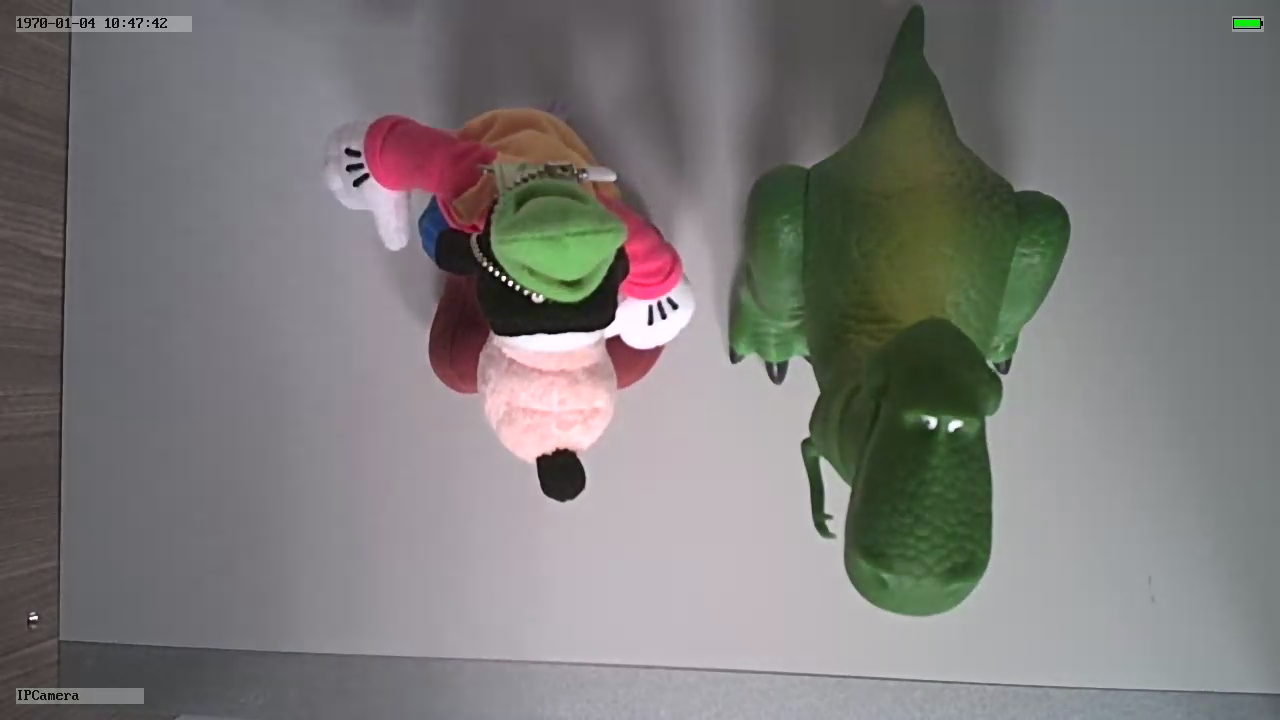goofy: (316, 97, 701, 498)
